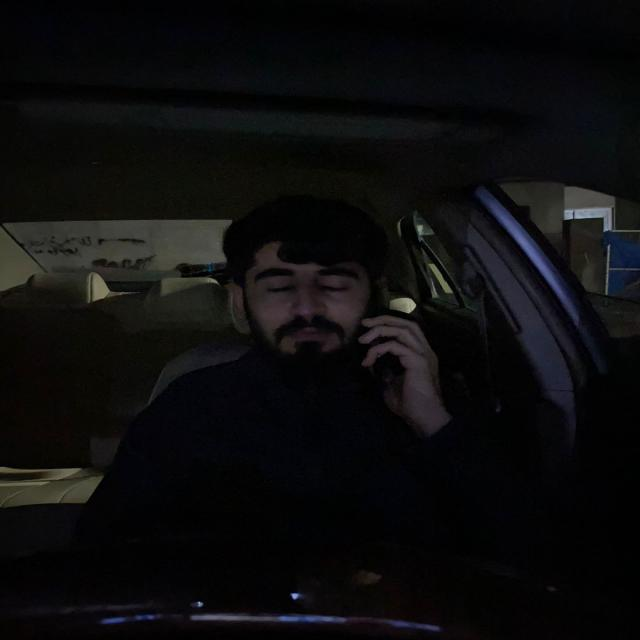mobile: (354, 307, 398, 399)
person: (225, 208, 382, 383)
